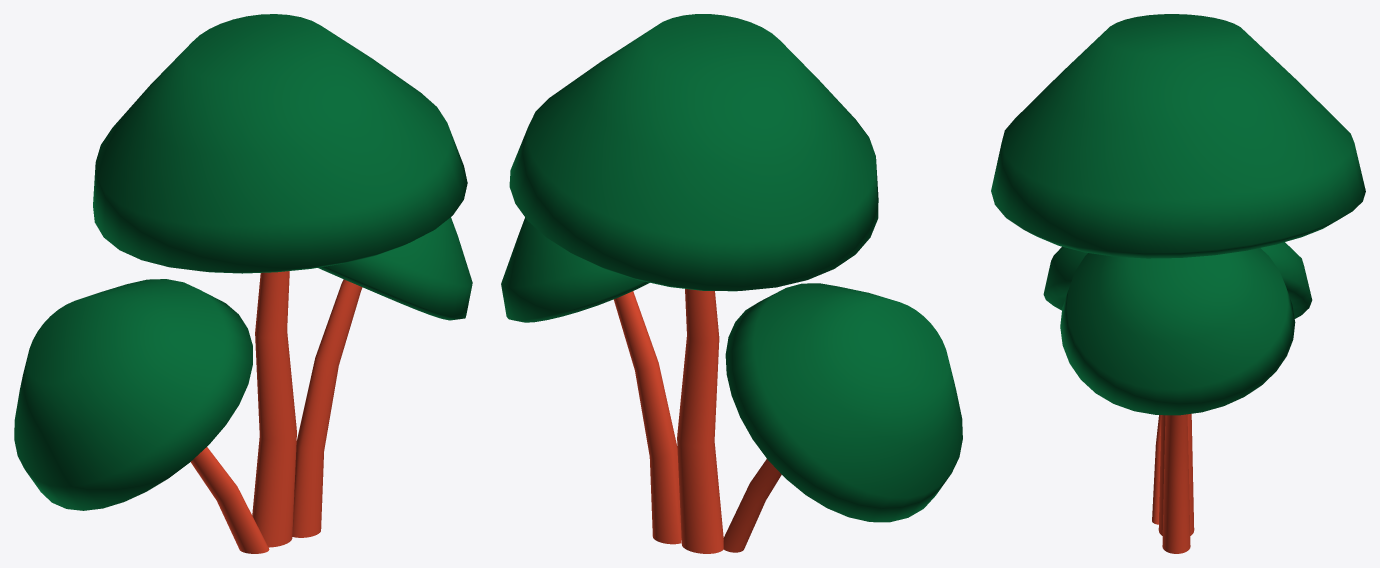
File: tree_sheinna2.glb
The picture shows the model from 3 angles, left to right: view 1: azimuth 30°, elevation 25°; view 2: azimuth 150°, elevation 25°; view 3: azimuth 270°, elevation 25°; orthographic projection.
Parts seen in each view (by area): view 1: Cylinder.006, Cylinder.007, Cylinder.005, Cylinder.008; view 2: Cylinder.006, Cylinder.007, Cylinder.005, Cylinder.008; view 3: Cylinder.006, Cylinder.008, Cylinder.005, Cylinder.007.
Part boxes in pixels (box(x1,y1,x2,y2)): Cylinder.006: box(93, 14, 467, 273); Cylinder.007: box(14, 279, 252, 510); Cylinder.005: box(191, 271, 362, 553); Cylinder.008: box(318, 217, 472, 320); Cylinder.006: box(509, 14, 878, 291); Cylinder.007: box(725, 283, 962, 522); Cylinder.005: box(613, 289, 781, 553); Cylinder.008: box(501, 217, 649, 322); Cylinder.006: box(991, 14, 1365, 258); Cylinder.008: box(1060, 248, 1295, 415); Cylinder.005: box(1152, 413, 1194, 553); Cylinder.007: box(1043, 242, 1312, 318).
Bounding box in the file's own units: 3.18 × 3.64 × 2.48.
